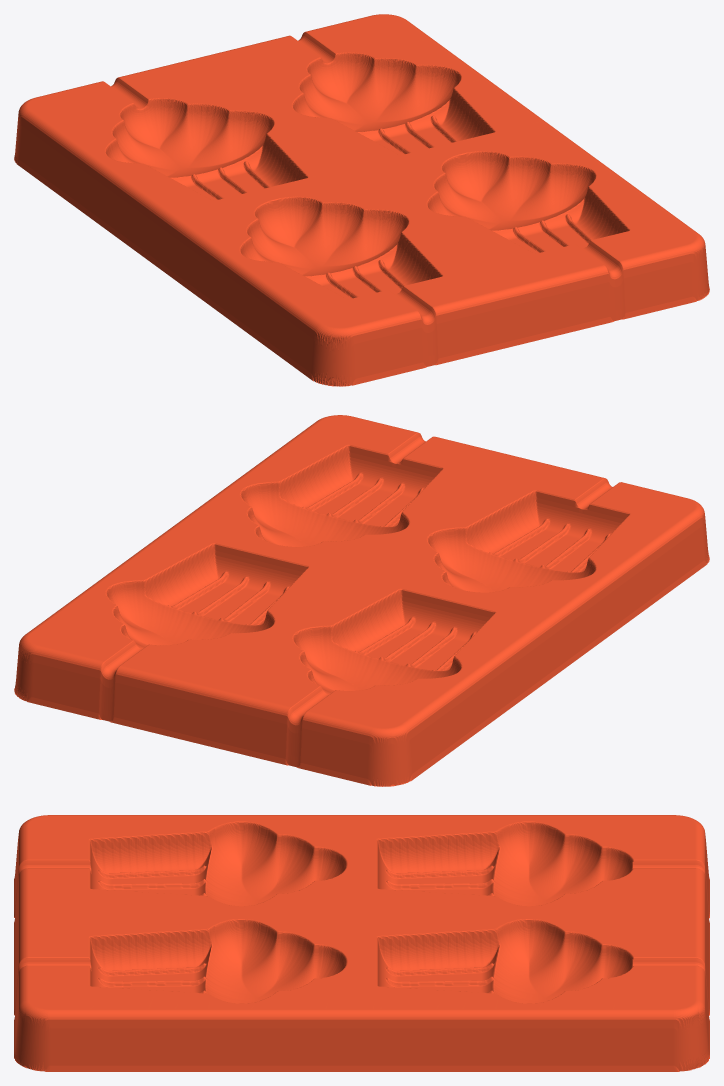
The model's file is mold.glb.
3 views of the same model, one above another, from view 1: azimuth 30°, elevation 25°; view 2: azimuth 150°, elevation 25°; view 3: azimuth 270°, elevation 25° (orthographic). The views are drawn at different scales.
Visible parts, largest first — view 1: geometry_0; view 2: geometry_0; view 3: geometry_0.
Part boxes in pixels (x1,y1,x2,y2): geometry_0: [14, 14, 709, 386]; geometry_0: [14, 415, 709, 786]; geometry_0: [14, 815, 709, 1071].
Size of the model in its own units: 0.1213 by 0.0155 by 0.1735.
